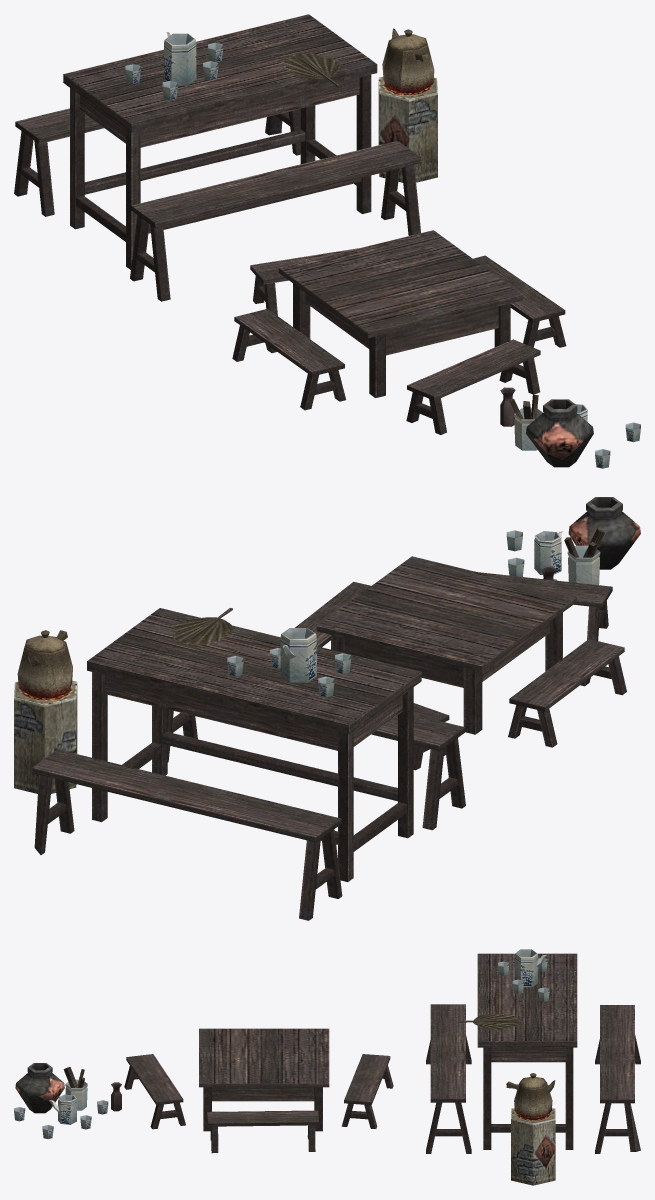
Rendered from tables.obj.
3 renders of one model, top to bottom at view 1: azimuth 30°, elevation 25°; view 2: azimuth 150°, elevation 25°; view 3: azimuth 270°, elevation 25°, orthographic. The views are drawn at different scales.
Parts seen in each view (by area): view 1: tables.001; view 2: tables.001; view 3: tables.001.
Boxes of the visible parts, box(x1,y1,x2,y2) form: tables.001: box(14, 14, 640, 468); tables.001: box(14, 497, 640, 920); tables.001: box(14, 949, 640, 1185).
Bounding box in the file's own units: 2.18 × 1.12 × 4.57.
Materials: 1 (1 with a texture image).
